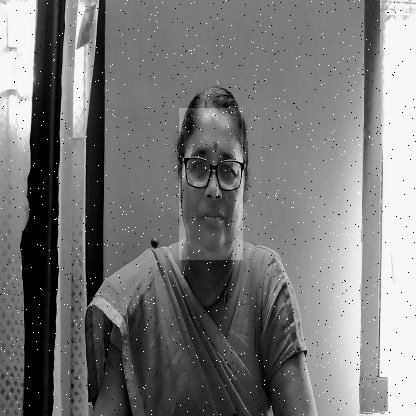Normal: (179, 108, 243, 260)
